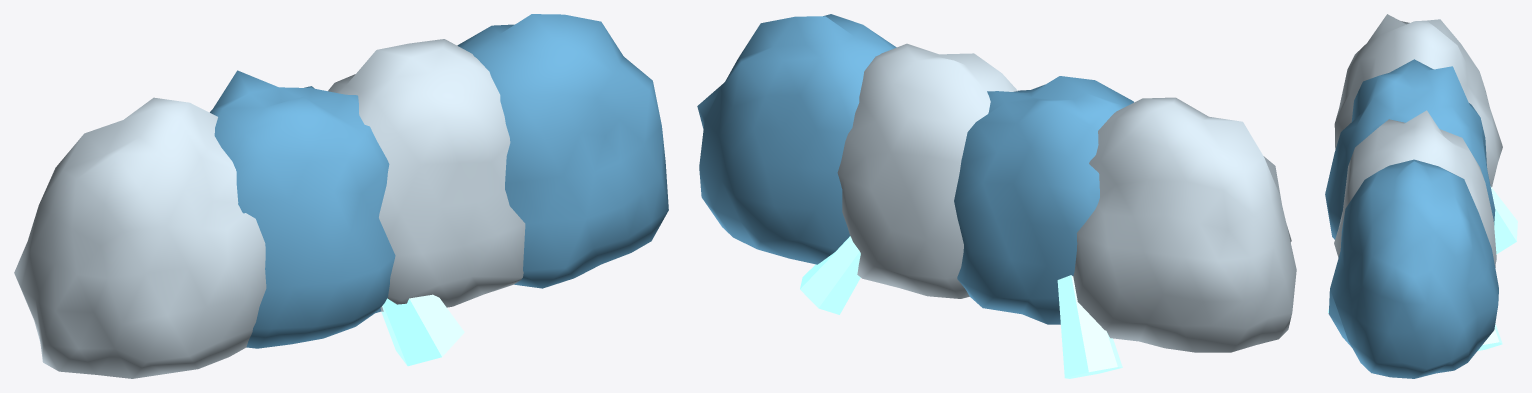
Rendered from TILE_WallStraight.glb.
3 views of the same model, side by side, from view 1: azimuth 30°, elevation 25°; view 2: azimuth 150°, elevation 25°; view 3: azimuth 270°, elevation 25° (orthographic). The views are drawn at different scales.
Visible parts, largest first — view 1: TILE_WallStraight; view 2: TILE_WallStraight; view 3: TILE_WallStraight.
Part boxes in pixels (x1,y1,x2,y2): TILE_WallStraight: [14, 14, 668, 378]; TILE_WallStraight: [697, 14, 1296, 378]; TILE_WallStraight: [1325, 14, 1517, 378].
Size of the model in its own units: 6.76 by 2.89 by 2.33.
